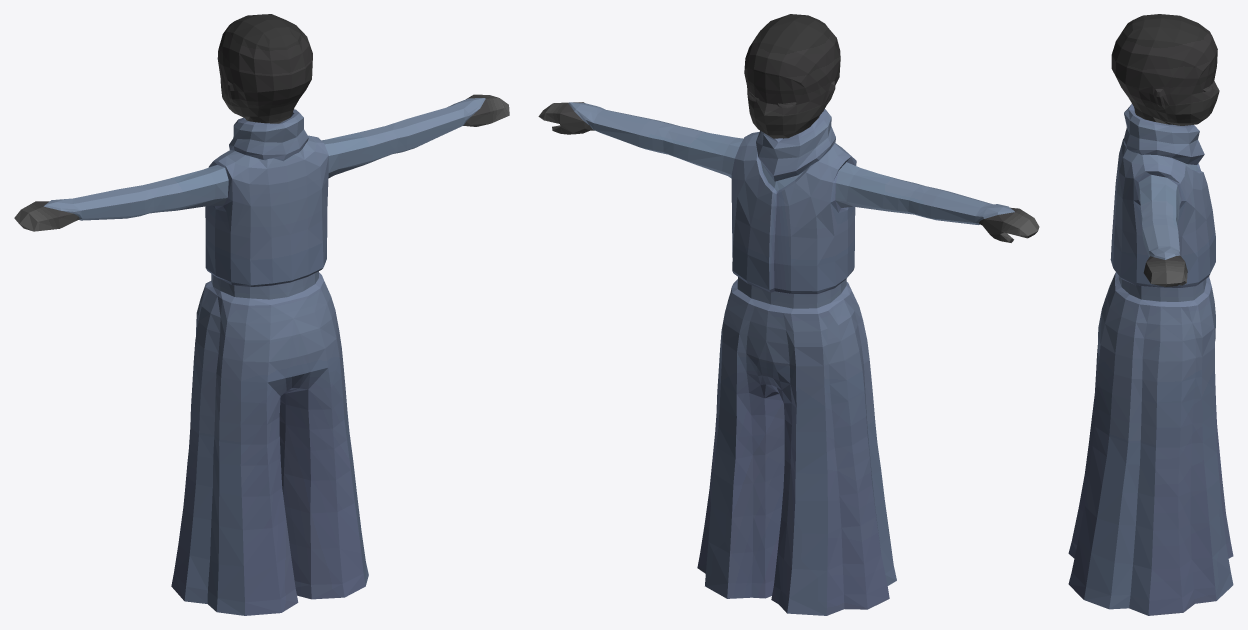
File: CharSkyKid_Body_AP16SlateRunaway.glb
3 views of the same model, side by side, from view 1: azimuth 30°, elevation 25°; view 2: azimuth 150°, elevation 25°; view 3: azimuth 270°, elevation 25° (orthographic).
Visible parts, largest first — view 1: CharSkyKid_Body_AP16SlateRunaway; view 2: CharSkyKid_Body_AP16SlateRunaway; view 3: CharSkyKid_Body_AP16SlateRunaway.
Part boxes in pixels (box(x1,y1,x2,y2)): CharSkyKid_Body_AP16SlateRunaway: box(14, 14, 509, 615); CharSkyKid_Body_AP16SlateRunaway: box(538, 14, 1039, 615); CharSkyKid_Body_AP16SlateRunaway: box(1068, 14, 1233, 615).
Bounding box in the file's own units: 13.83 × 14.98 × 4.04.
Materials: 1 (1 with a texture image).
